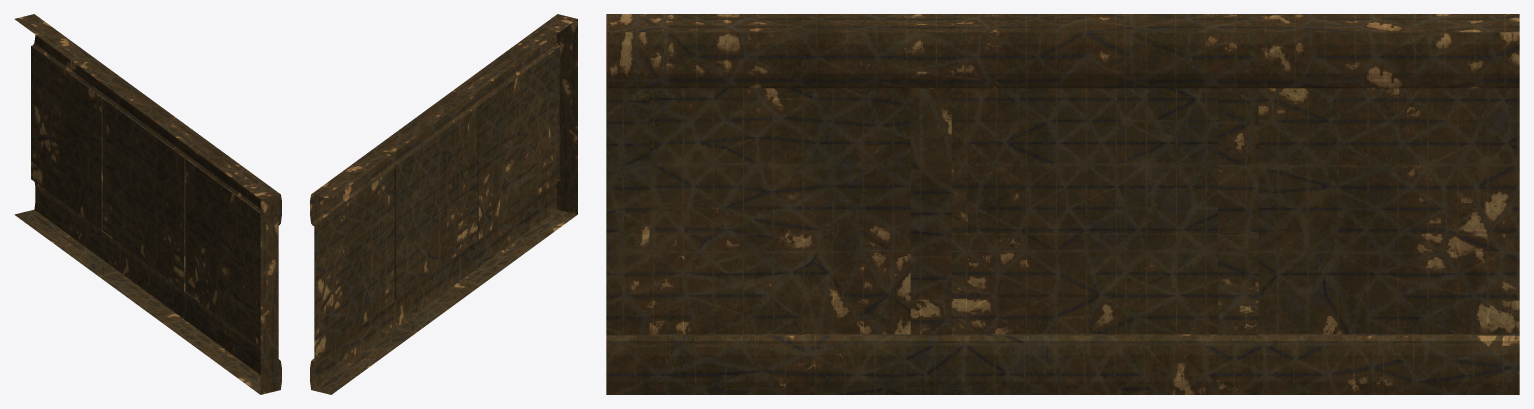
The model's file is wallPrefab1x3-NoSide.fbx.
The picture shows the model from 3 angles, left to right: view 1: azimuth 30°, elevation 25°; view 2: azimuth 150°, elevation 25°; view 3: azimuth 270°, elevation 25°; orthographic projection. The views are drawn at different scales.
Parts seen in each view (by area): view 1: wallPrefab1x3; view 2: wallPrefab1x3; view 3: wallPrefab1x3.
Part boxes in pixels (x1,y1,x2,y2): wallPrefab1x3: [14, 14, 281, 394]; wallPrefab1x3: [310, 14, 577, 394]; wallPrefab1x3: [606, 14, 1519, 394].
Size of the model in its own units: 25.03 by 220 by 501.
